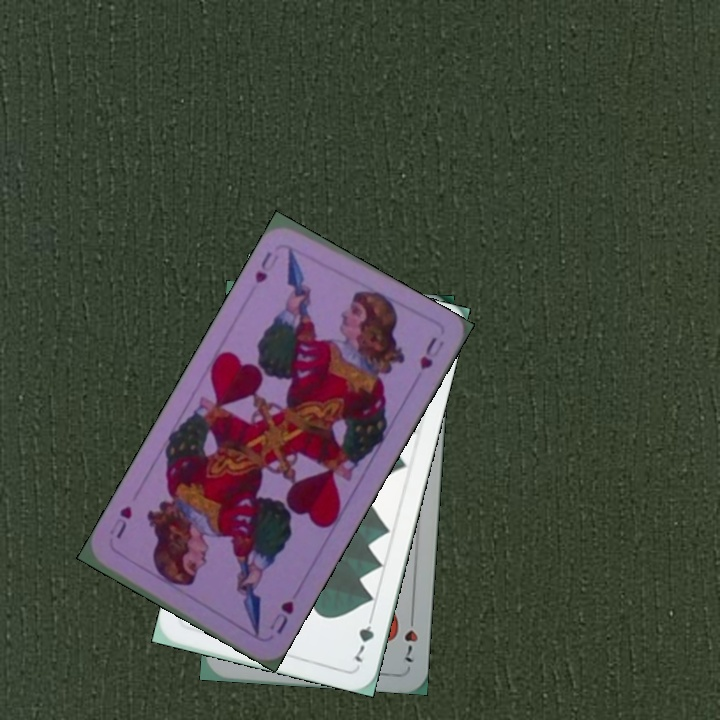G7: (350, 608, 377, 666)
H7: (400, 608, 421, 665)
HU: (265, 596, 297, 637), (250, 247, 282, 286)
